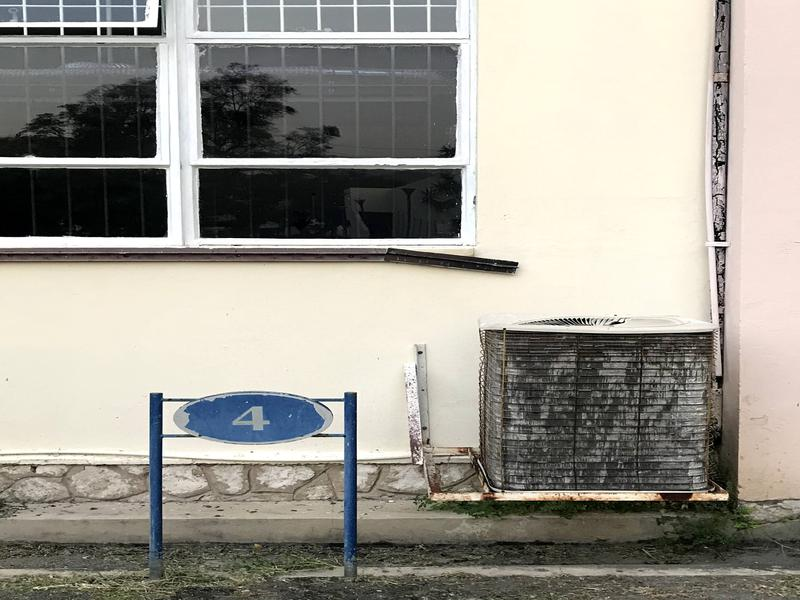18.0053530_-76.7490375_signatentrancetoscitech: (120, 381, 394, 576)
